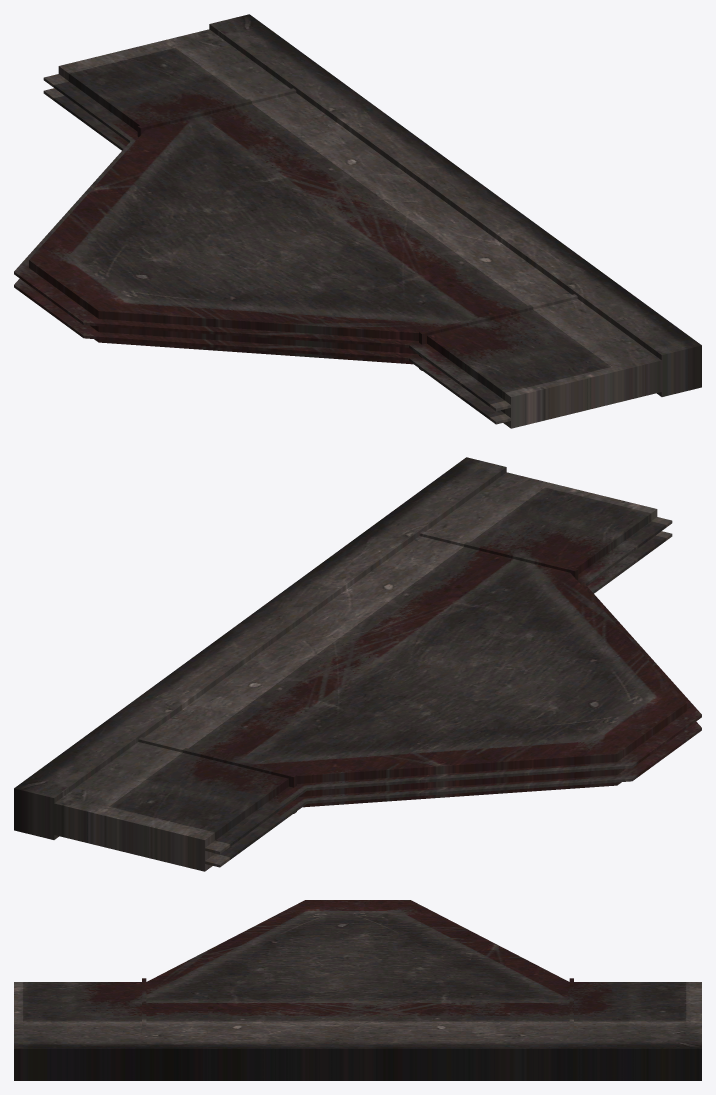
File: heavydoor1.fbx
3 renders of one model, top to bottom at view 1: azimuth 30°, elevation 25°; view 2: azimuth 150°, elevation 25°; view 3: azimuth 270°, elevation 25°, orthographic. The views are drawn at different scales.
Visible parts, largest first — view 1: node_id3; view 2: node_id3; view 3: node_id3.
Part boxes in pixels (x1=…): node_id3: x1=14, y1=14, x2=701, y2=428; node_id3: x1=14, y1=457, x2=701, y2=871; node_id3: x1=14, y1=900, x2=701, y2=1080.
Bounding box in the file's own units: 0.512 × 0.0482 × 0.9397.
1 material, 1 textured.
